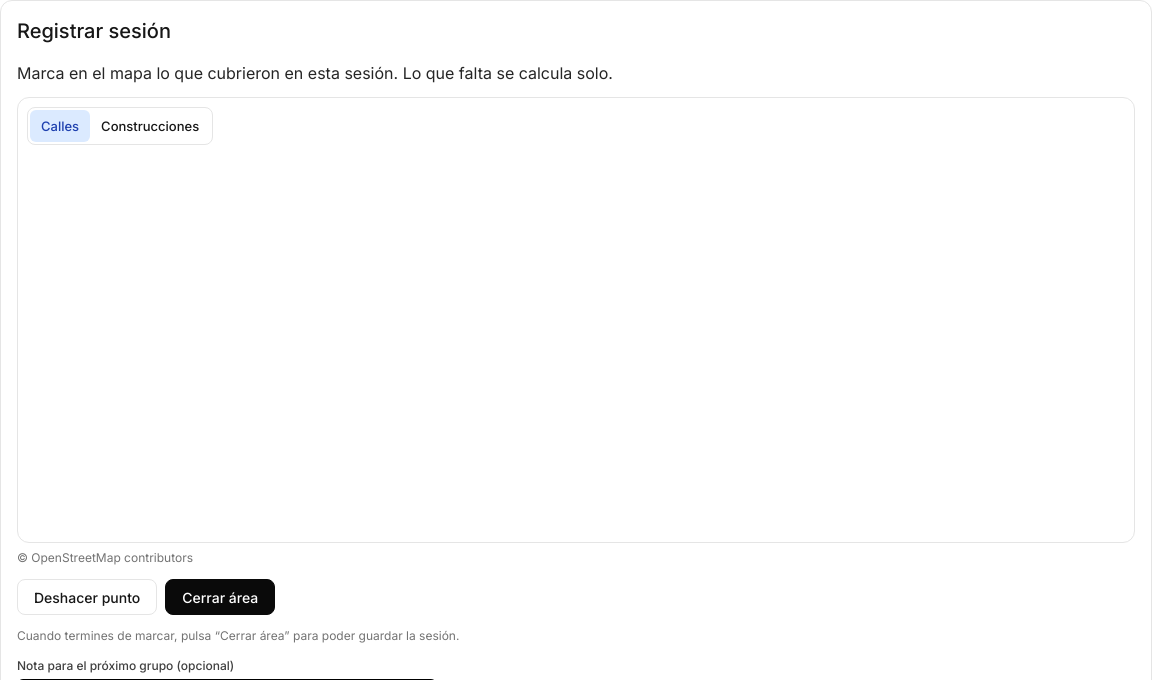
Test case: ProgressRecorder › "Deshacer punto" removes the last vertex
This screenshot has width=1152, height=680.
Click the button "Deshacer punto" at (87, 597), box [17, 579, 157, 615]
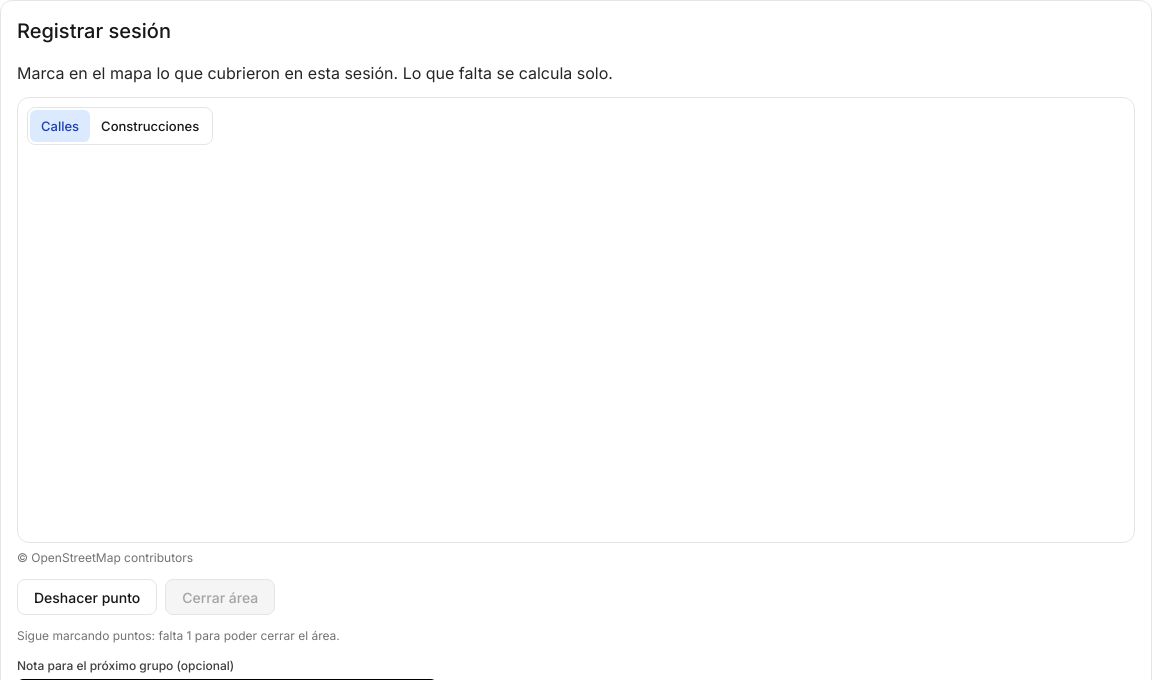
Check: the button "Cerrar área" is disabled, box [165, 579, 275, 615]
